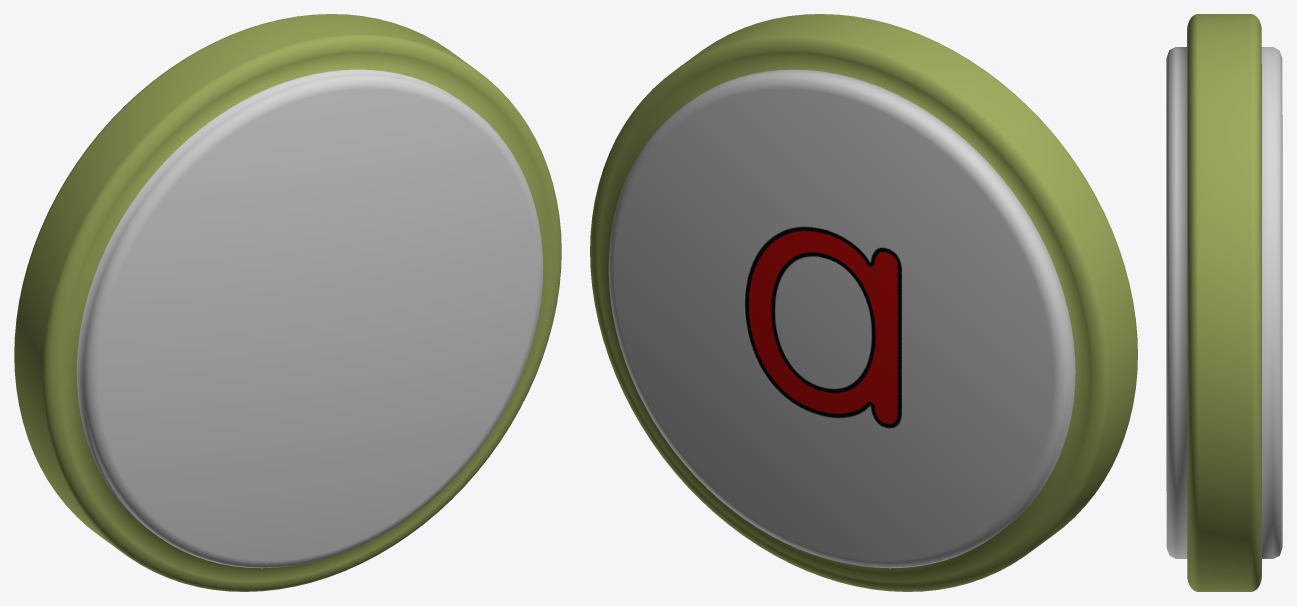
File: apple10.gltf
The picture shows the model from 3 angles, left to right: view 1: azimuth 30°, elevation 25°; view 2: azimuth 150°, elevation 25°; view 3: azimuth 270°, elevation 25°; orthographic projection. The views are drawn at different scales.
Parts seen in each view (by area): view 1: Cylinder.001; view 2: Cylinder.001; view 3: Cylinder.001.
Boxes of the visible parts, x1,y1,x2,y2 form: Cylinder.001: (14,14,561,591); Cylinder.001: (590,14,1137,591); Cylinder.001: (1166,14,1282,591).
Size of what is drawn, in the model's own units: 2.56 by 2.56 by 0.5145.
3 materials, 1 textured.
